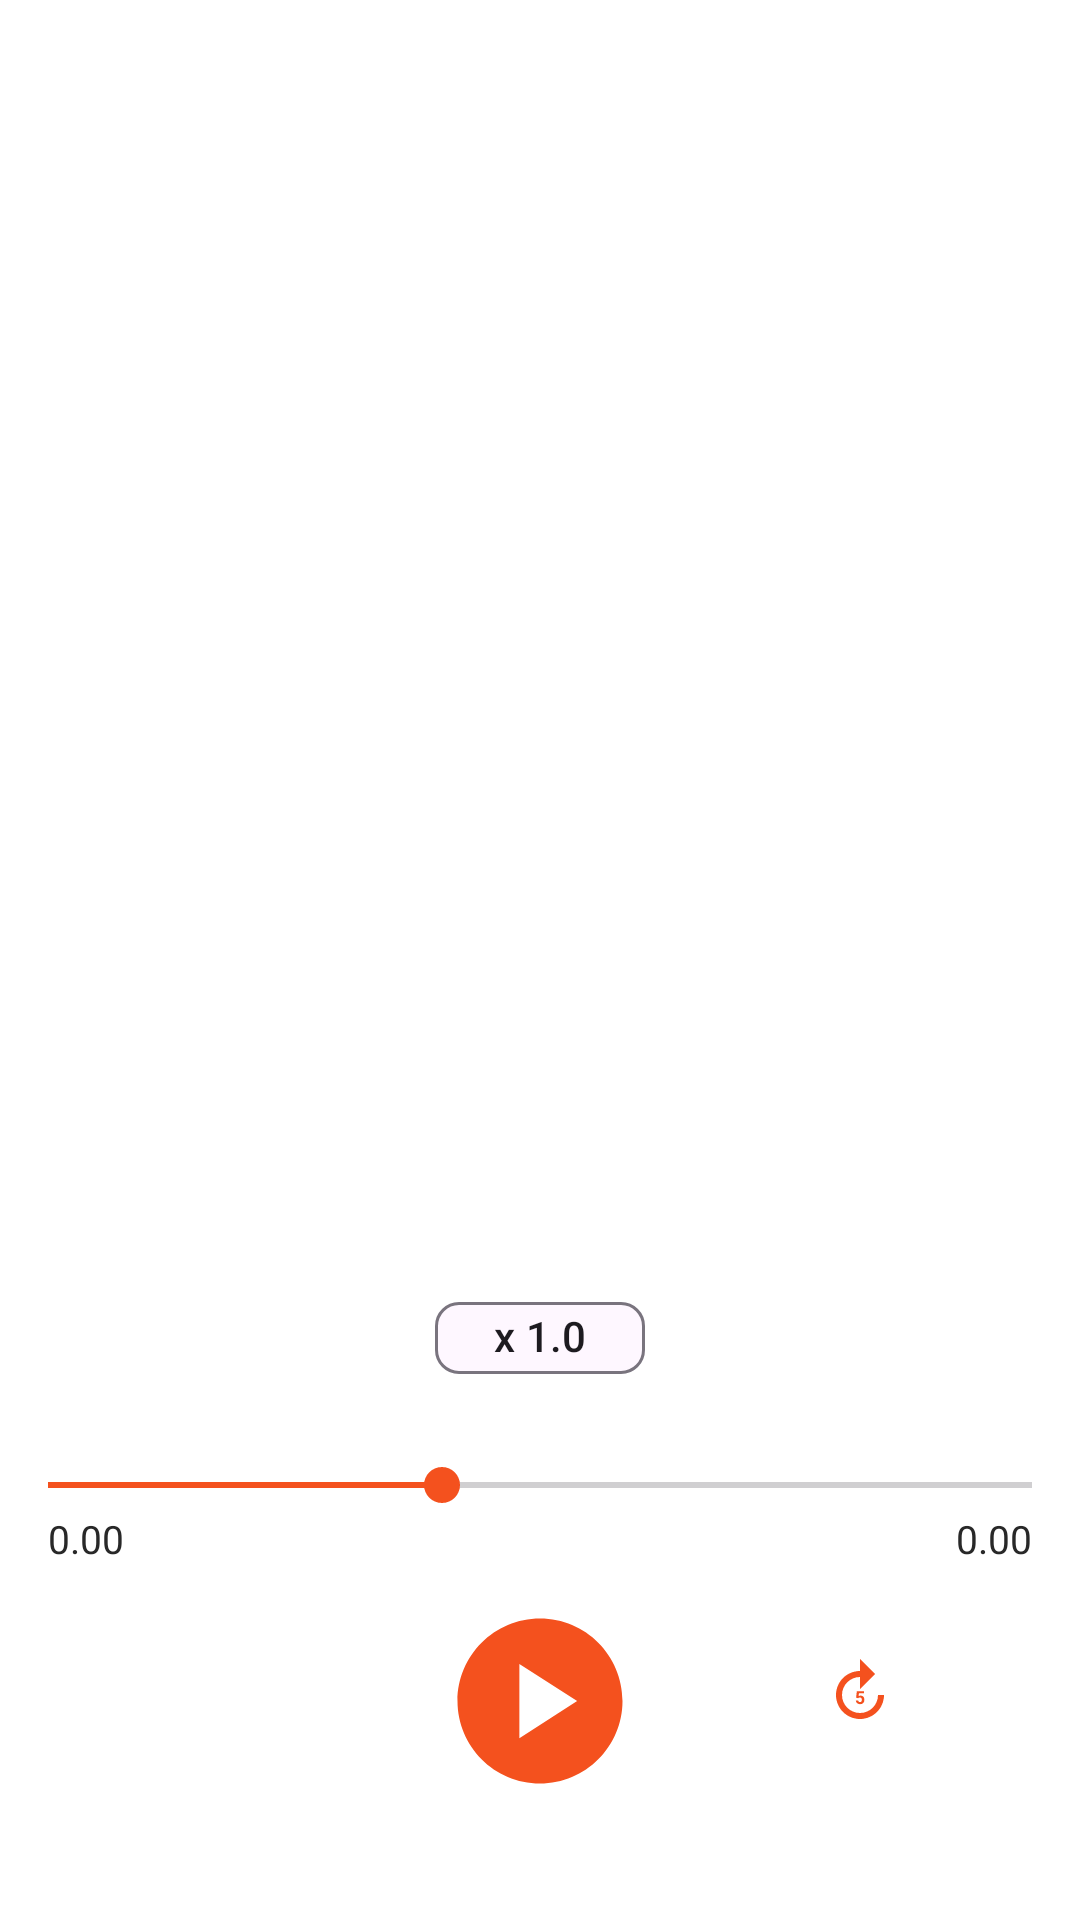

Icon click points for this 1080*1920 phone screenshot, format (x,y):
forward: (860,1689)
play circle: (540,1701)
